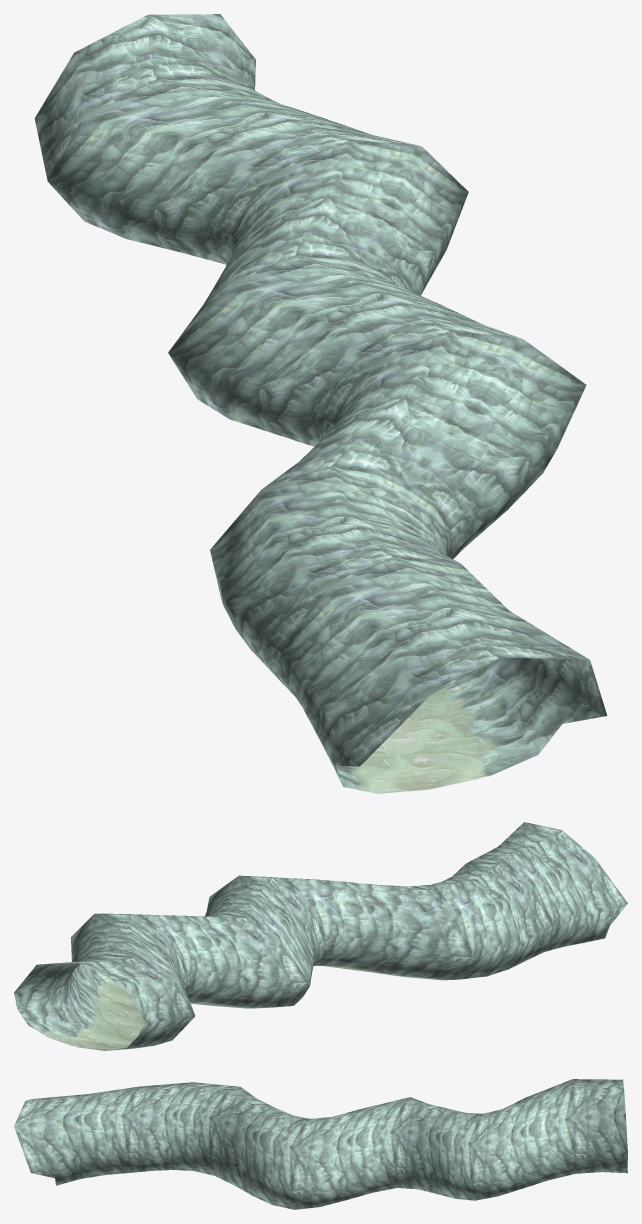
The model's file is TROLLHOLE02_PS-MAINCAVE06.fbx.
The picture shows the model from 3 angles, top to bottom: view 1: azimuth 30°, elevation 25°; view 2: azimuth 150°, elevation 25°; view 3: azimuth 270°, elevation 25°; orthographic projection. The views are drawn at different scales.
Parts seen in each view (by area): view 1: TROLLHOLE02_PS-MAINCAVE06; view 2: TROLLHOLE02_PS-MAINCAVE06; view 3: TROLLHOLE02_PS-MAINCAVE06.
Boxes of the visible parts, x1,y1,x2,y2 form: TROLLHOLE02_PS-MAINCAVE06: [34, 14, 607, 793]; TROLLHOLE02_PS-MAINCAVE06: [14, 822, 627, 1050]; TROLLHOLE02_PS-MAINCAVE06: [14, 1079, 627, 1209].
Size of the model in its own units: 183092 by 95241 by 358738.
2 materials, 2 textured.
